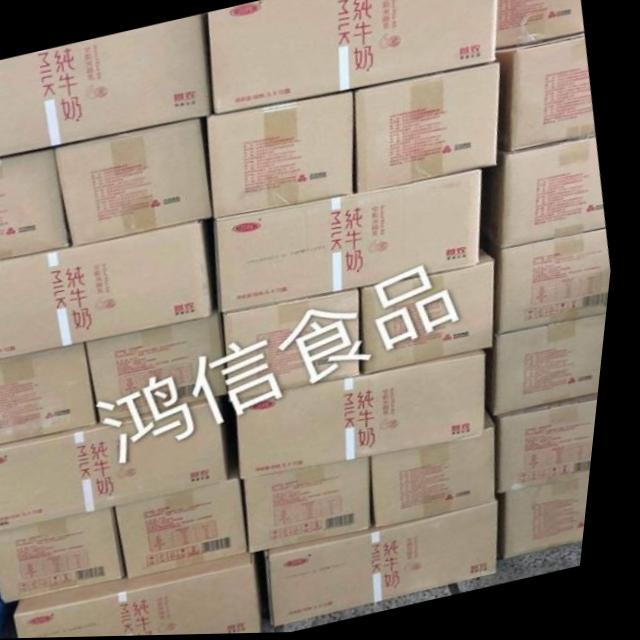box: (218, 170, 487, 315), (238, 349, 495, 481), (205, 0, 496, 116), (0, 398, 239, 534), (0, 14, 215, 157), (0, 221, 217, 358), (278, 503, 511, 625), (25, 556, 273, 639), (58, 118, 217, 246), (210, 90, 358, 220), (357, 64, 502, 194), (367, 248, 501, 374), (92, 314, 238, 423), (230, 291, 370, 398), (380, 419, 505, 531), (486, 139, 610, 251), (126, 480, 260, 579), (0, 507, 135, 604), (254, 460, 382, 555), (497, 34, 597, 152), (0, 341, 108, 446), (505, 232, 616, 334), (502, 314, 613, 416), (502, 397, 607, 493), (0, 149, 77, 260), (513, 478, 600, 560), (496, 0, 584, 53)
